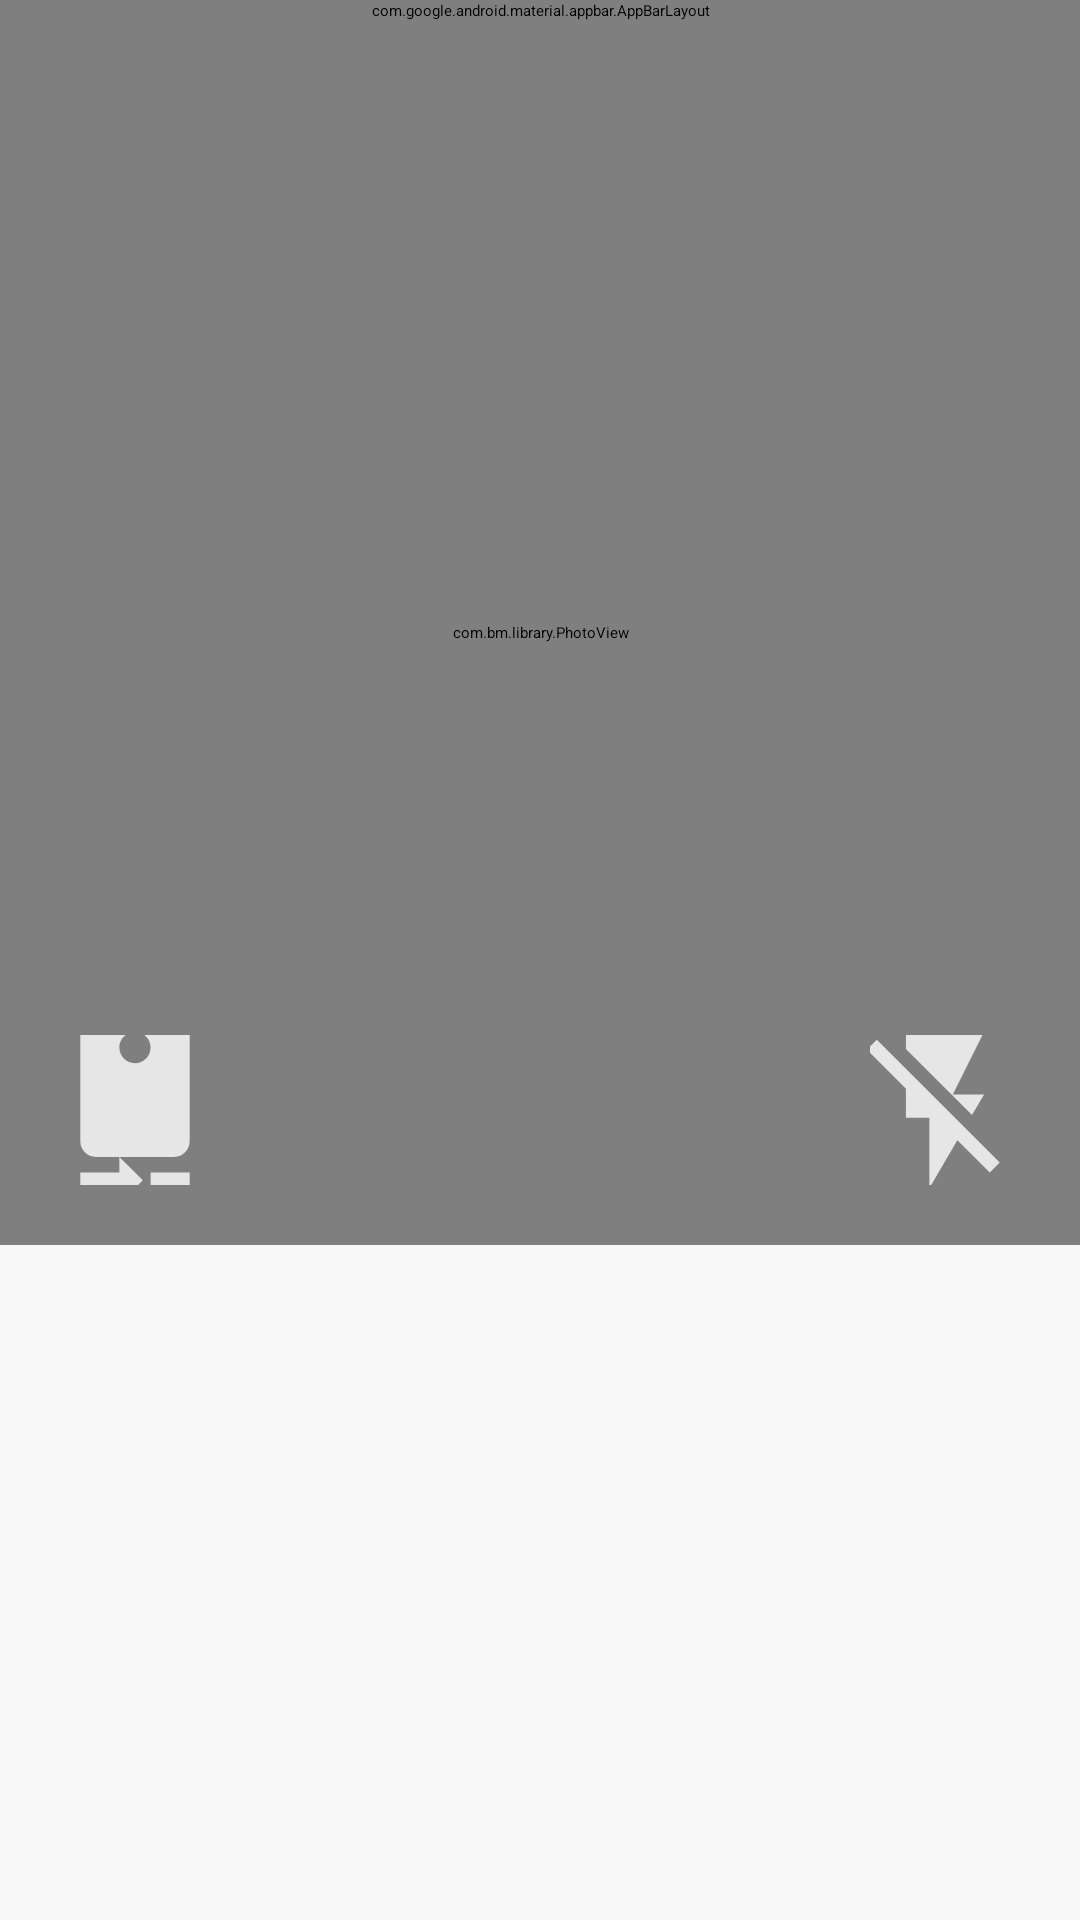

Icons on this 1080*1920 Android screen, each with the point to tap as point (x, y):
camera rear: point (135, 1110)
flash off: point (935, 1110)
